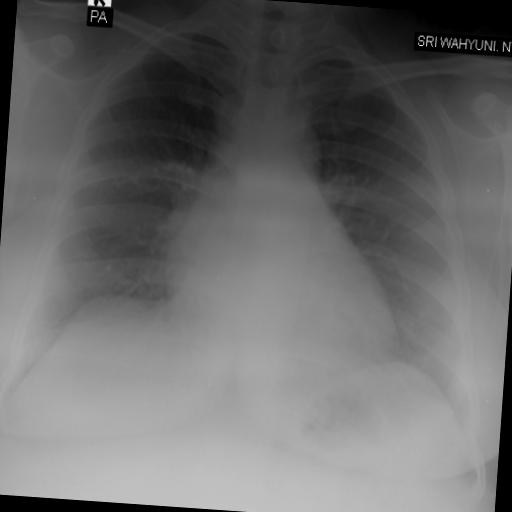kardiomegali: (152, 166, 412, 378)
